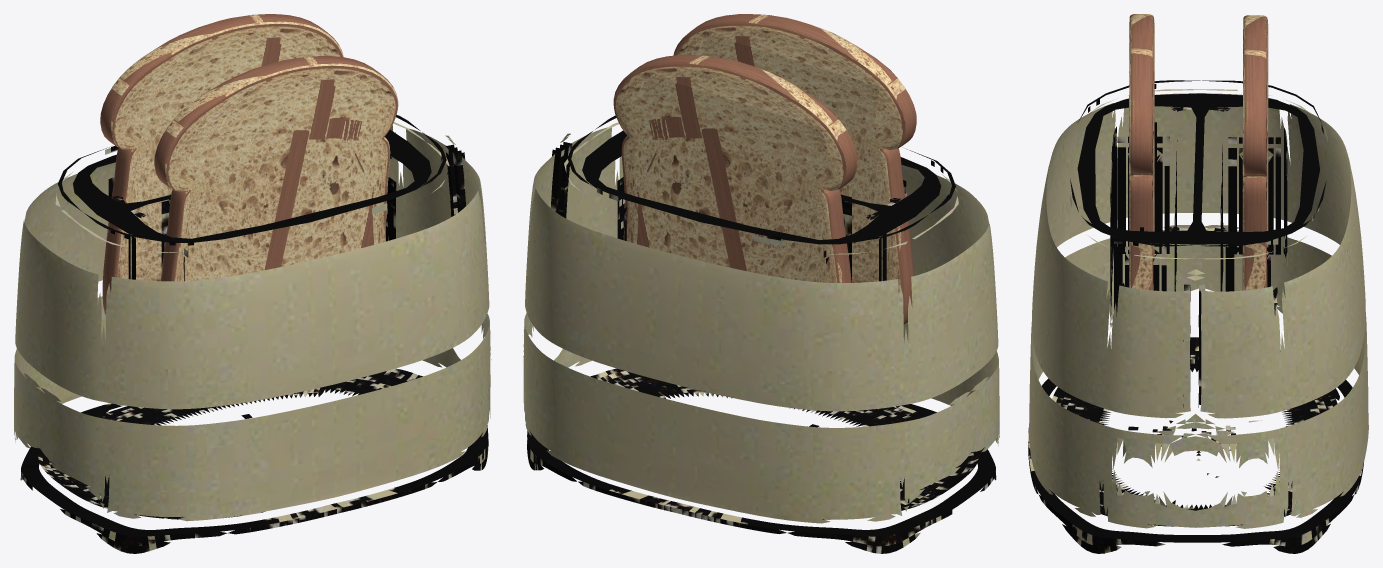
Rendered from bk_toaster_cream.glb.
3 views of the same model, side by side, from view 1: azimuth 30°, elevation 25°; view 2: azimuth 150°, elevation 25°; view 3: azimuth 270°, elevation 25° (orthographic).
Visible parts, largest first — view 1: Kitchen-appliances, bread.001, bread; view 2: Kitchen-appliances, bread, bread.001; view 3: Kitchen-appliances, bread, bread.001.
Boxes of the visible parts, box(x1,y1,x2,y2) form: Kitchen-appliances: box(14, 115, 491, 553); bread.001: box(154, 56, 398, 281); bread: box(100, 14, 343, 314); Kitchen-appliances: box(523, 115, 999, 553); bread: box(613, 55, 857, 282); bread.001: box(673, 14, 916, 324); Kitchen-appliances: box(1028, 80, 1368, 553); bread: box(1242, 15, 1268, 290); bread.001: box(1129, 14, 1154, 290).
Bounding box in the file's own units: 0.2933 × 0.2812 × 0.2021.
Materials: 3 (3 with a texture image).
